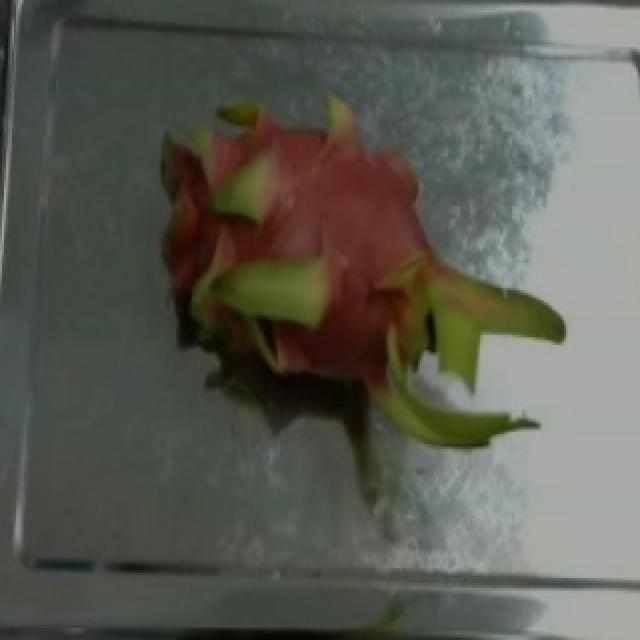fruit: (126, 42, 484, 486)
